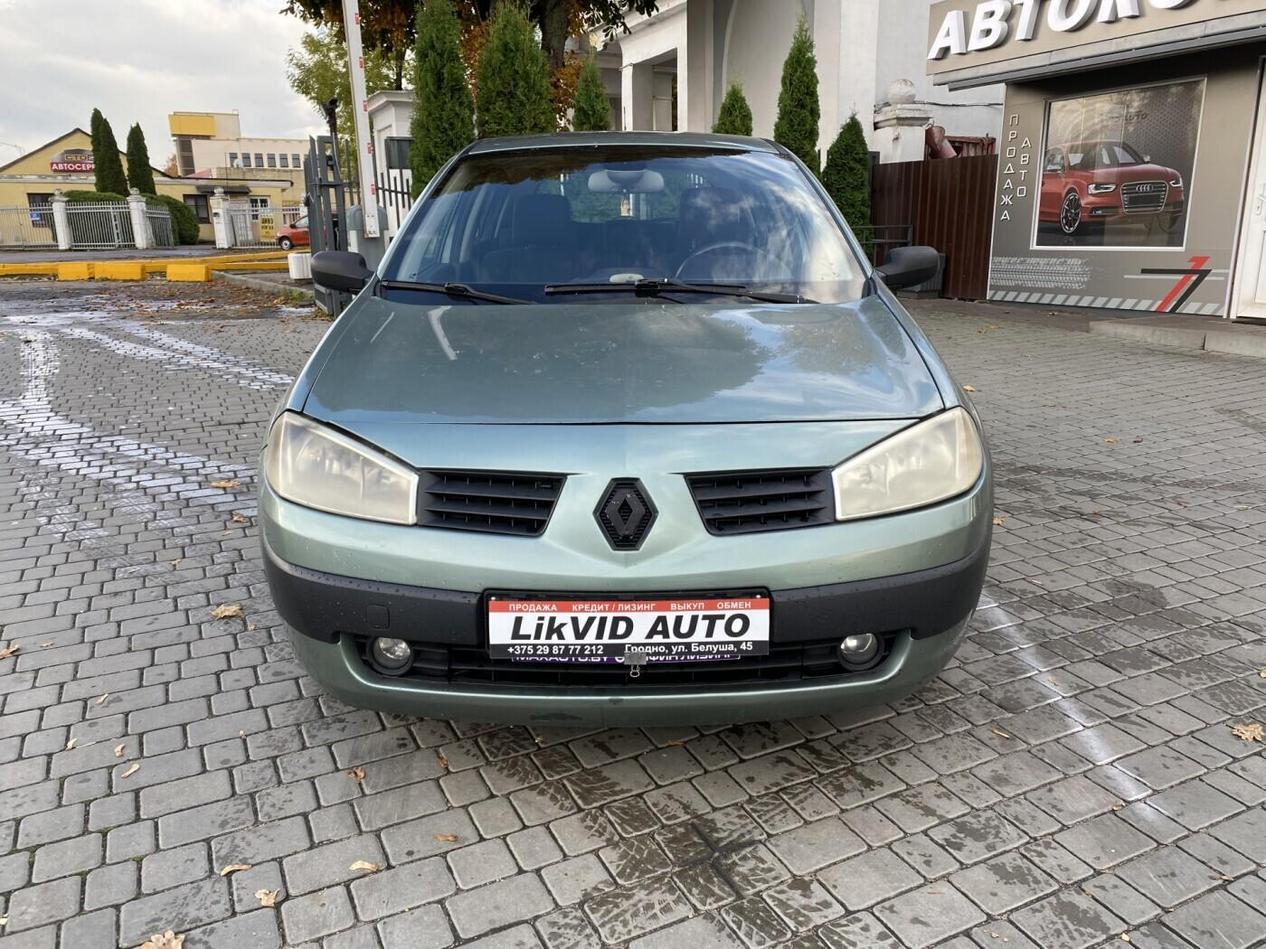Megane_2002-2006: (233, 125, 995, 766)
